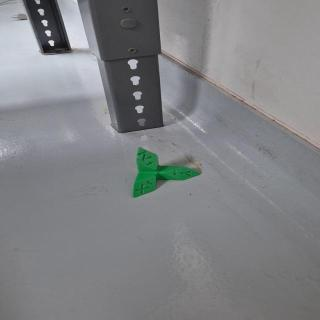eje: (120, 145, 206, 199)
